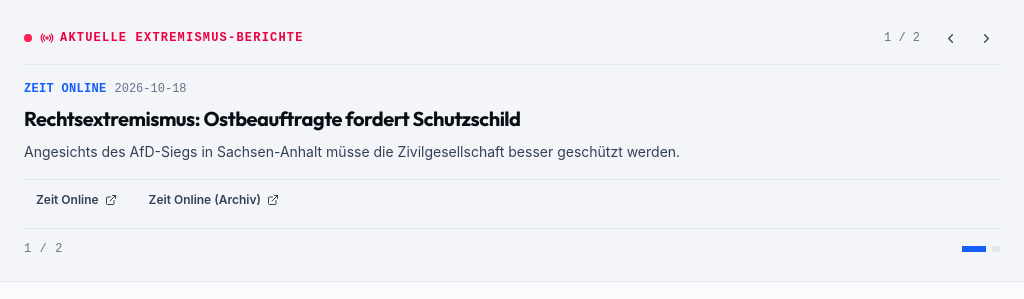
Test: NewsSpotlightSection › pauses auto-slide on mouse hover and resumes when mouse leaves
Mouse enters
Hover over the element that starts with "Aktuelle Extremismus-Berichte": (512, 141) [0, 0, 1023, 282]
Expected: the link "Rechtsextremismus: Ostbeauftragte fordert Schutzschild" is shown, [24, 106, 520, 131]
Mouse leaves
Move the pointer off the element that starts with "Aktuelle Extremismus-Berichte"
Wait 8000 ms
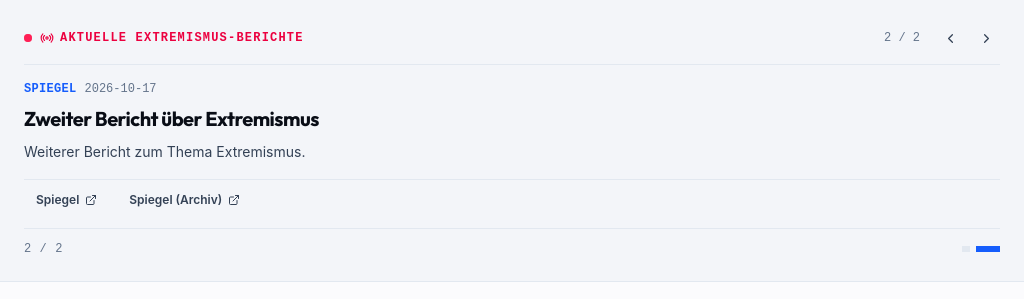
Now the link "Zweiter Bericht über Extremismus" is shown, box [24, 106, 319, 131]
